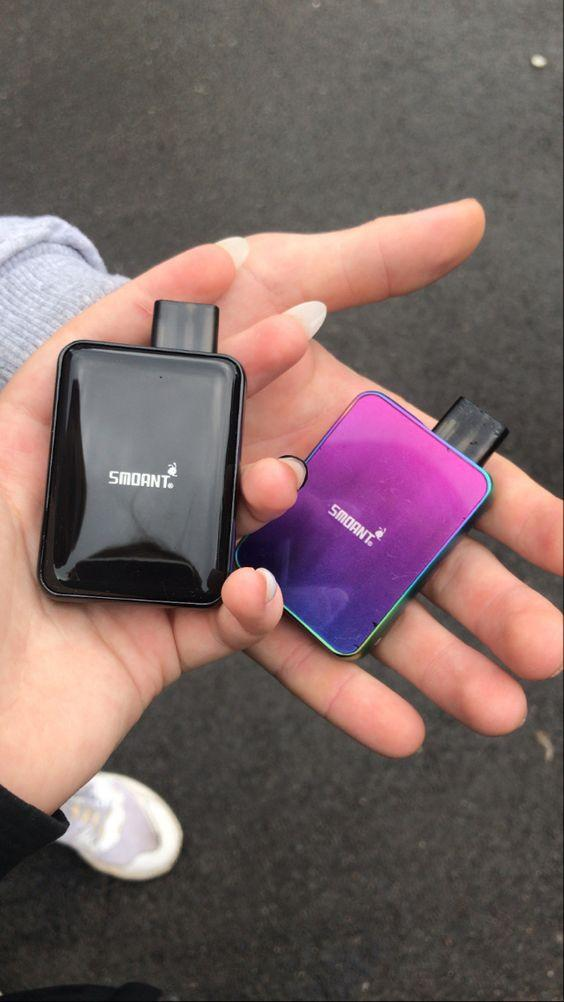Vape: (238, 392, 507, 657), (38, 300, 244, 608)
